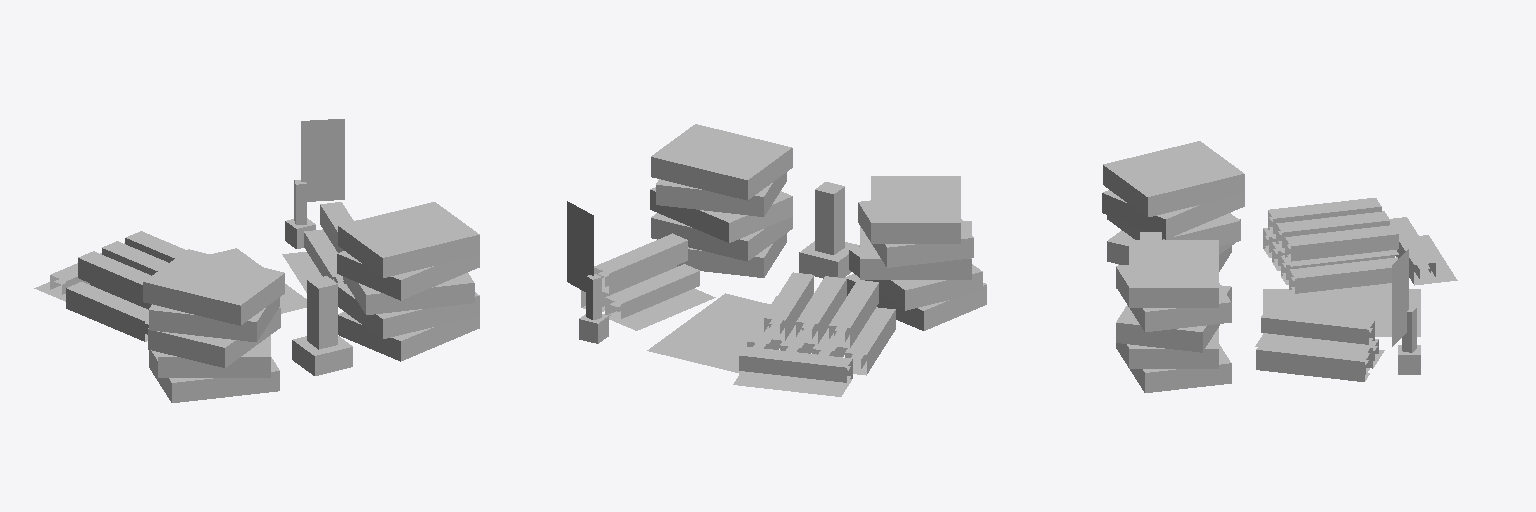
File: station_studydesk.obj
3 renders of one model, left to right at view 1: azimuth 30°, elevation 25°; view 2: azimuth 150°, elevation 25°; view 3: azimuth 270°, elevation 25°, orthographic.
Parts seen in each view (by area): view 1: STUDY_DESK_MAIN.013; view 2: STUDY_DESK_MAIN.013; view 3: STUDY_DESK_MAIN.013.
Part boxes in pixels (left/top/right/bottom): STUDY_DESK_MAIN.013: left=34, top=119, right=479, bottom=402; STUDY_DESK_MAIN.013: left=567, top=124, right=986, bottom=396; STUDY_DESK_MAIN.013: left=1102, top=141, right=1457, bottom=392.
Size of the model in its own units: 1.01 by 0.375 by 0.9899.